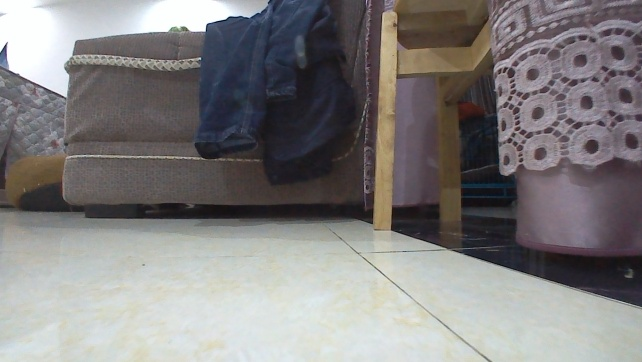sofa1: (59, 0, 366, 220)
